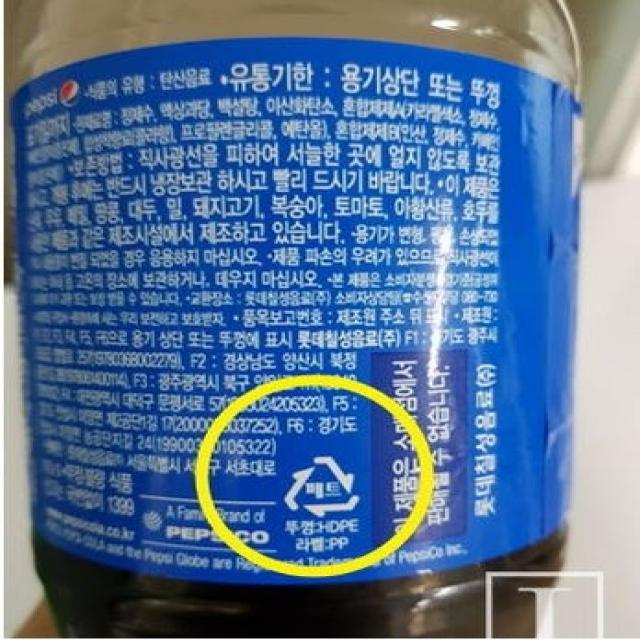PET: (282, 452, 364, 519)
